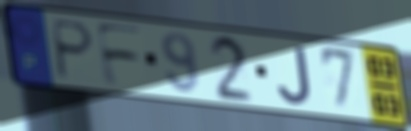2: (209, 33, 255, 106)
7: (318, 44, 358, 116)
9: (159, 31, 201, 95)
F: (93, 20, 146, 89)
J: (275, 45, 315, 108)
P: (51, 17, 97, 83)
